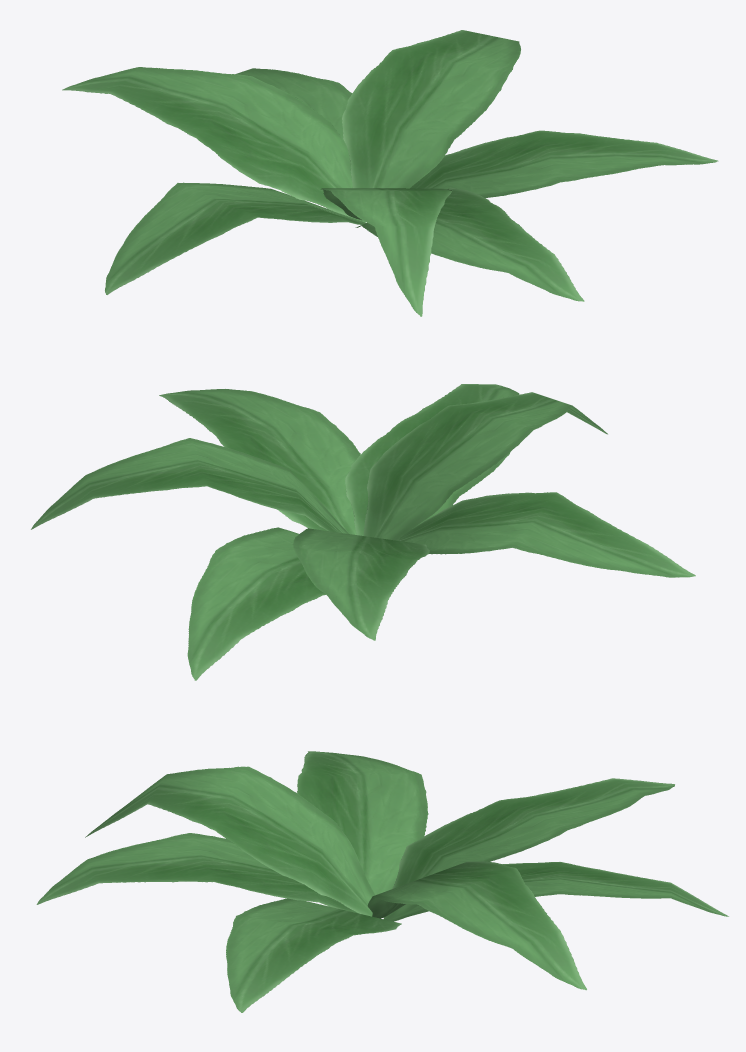
File: Grass.fbx
3 renders of one model, top to bottom at view 1: azimuth 30°, elevation 25°; view 2: azimuth 150°, elevation 25°; view 3: azimuth 270°, elevation 25°, orthographic.
Parts seen in each view (by area): view 1: Grass; view 2: Grass; view 3: Grass.
Boxes of the visible parts, x1,y1,x2,y2 form: Grass: [62, 30, 718, 316]; Grass: [31, 384, 695, 680]; Grass: [36, 751, 728, 1012].
Bounding box in the file's own units: 102 × 19.53 × 101.
